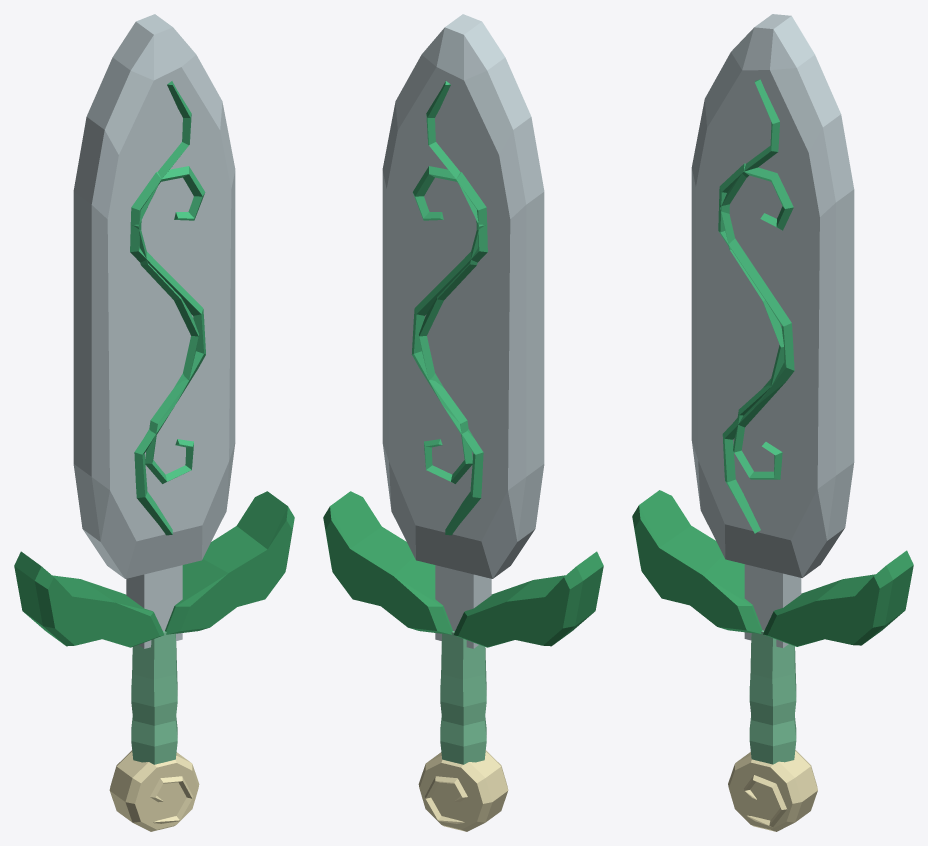
Rendered from BE_PowerMesh_HeldWindSword.fbx.
3 views of the same model, side by side, from view 1: azimuth 30°, elevation 25°; view 2: azimuth 150°, elevation 25°; view 3: azimuth 330°, elevation 25° (orthographic).
Parts seen in each view (by area): view 1: BE_PowerMesh_HeldWindSword; view 2: BE_PowerMesh_HeldWindSword; view 3: BE_PowerMesh_HeldWindSword.
Boxes of the visible parts, <box> form: BE_PowerMesh_HeldWindSword: <box>14,14,294,831</box>; BE_PowerMesh_HeldWindSword: <box>323,14,603,831</box>; BE_PowerMesh_HeldWindSword: <box>632,14,913,831</box>.
Bounding box in the file's own units: 190 × 559 × 46.24.
1 material, 1 textured.
